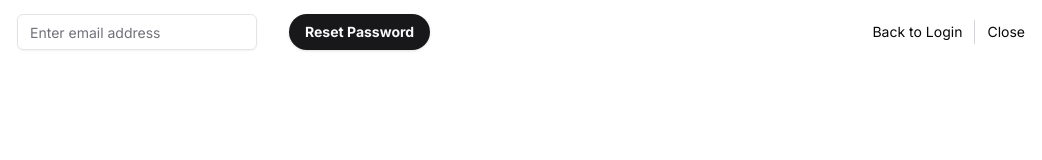
Test: ForgetPassword › should show error message for invalid email
The image size is (1042, 160).
Type "invalid-email" into the field with placeholder "Enter email address". click: (137, 32)
box: [17,14,257,50]
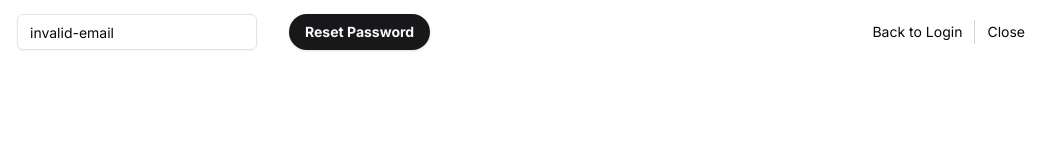
Click the button "Reset Password". click: (360, 32)
box: [289,14,430,50]
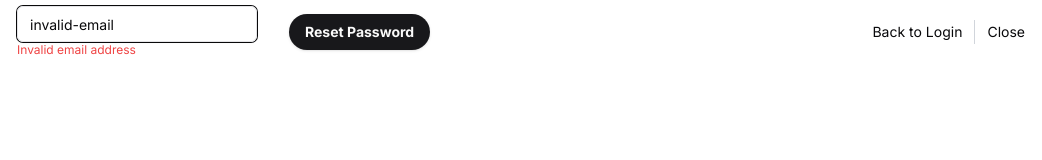
Check: the text "Invalid email address" is shown, box [17,42,136,57]
